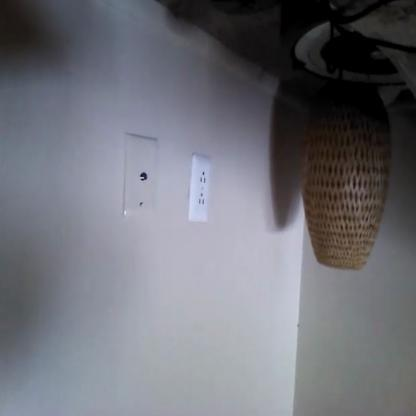OUTLET: (187, 156, 211, 223)
